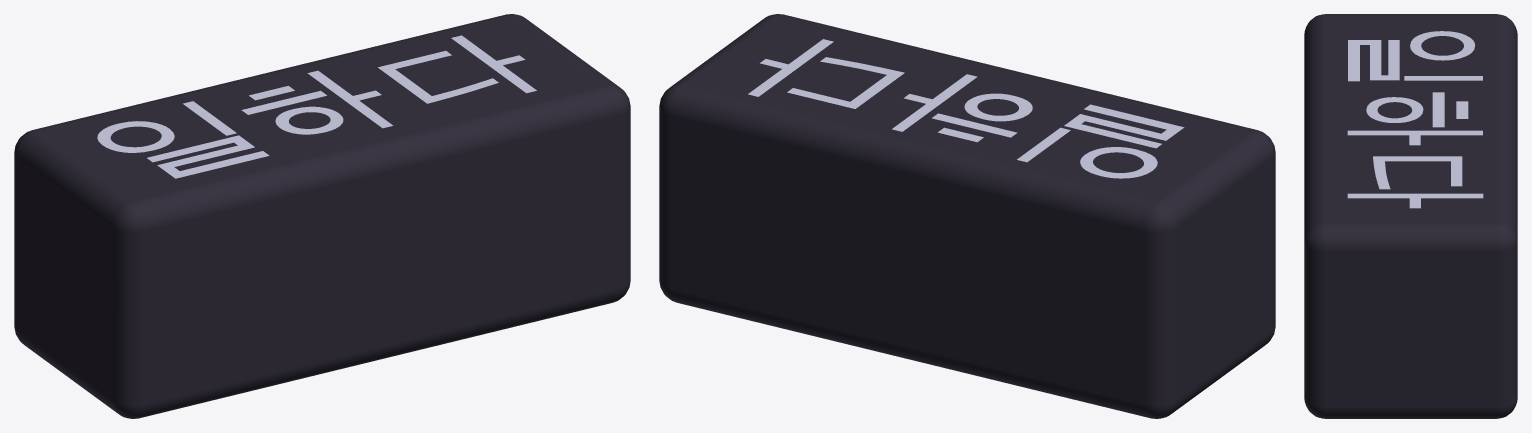
The model's file is work.glb.
3 views of the same model, side by side, from view 1: azimuth 30°, elevation 25°; view 2: azimuth 150°, elevation 25°; view 3: azimuth 270°, elevation 25° (orthographic). The views are drawn at different scales.
Visible parts, largest first — view 1: Cut, Extrude; view 2: Cut, Extrude; view 3: Cut, Extrude.
Part boxes in pixels (x1,y1,x2,y2): Cut: (14,14,630,418); Extrude: (97,35,536,178); Cut: (659,14,1275,418); Extrude: (748,39,1184,178); Cut: (1304,14,1517,418); Extrude: (1347,31,1483,208).
Bounding box in the file's own units: 5 × 2 × 2.
